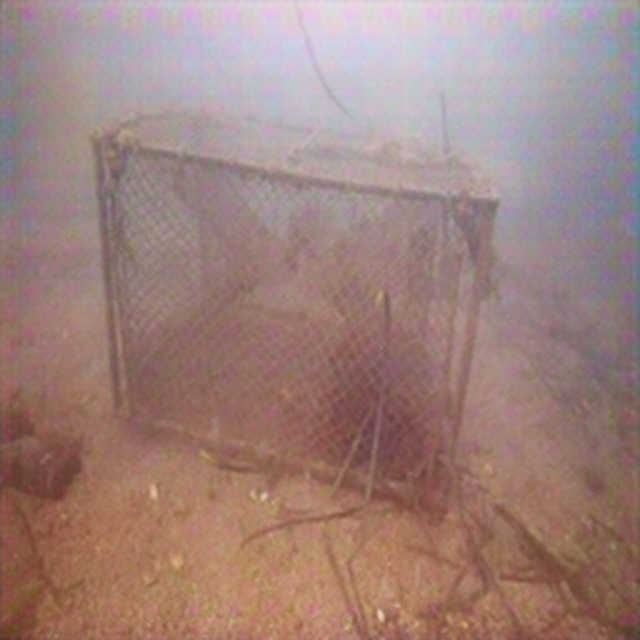mine: (87, 102, 502, 516)
